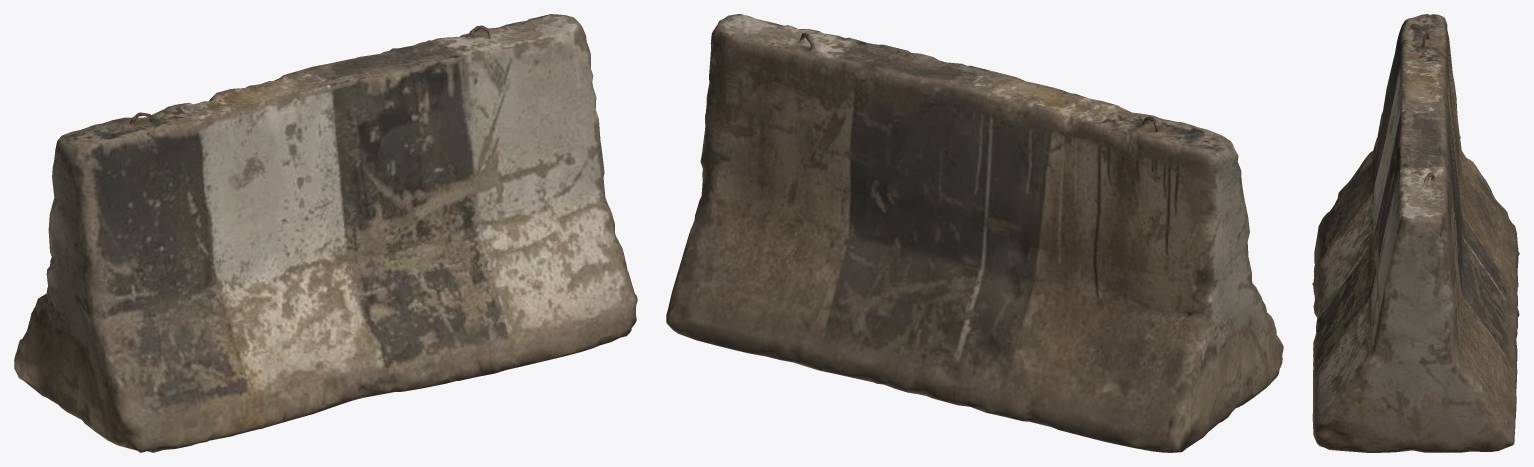
3 views of the same model, side by side, from view 1: azimuth 30°, elevation 25°; view 2: azimuth 150°, elevation 25°; view 3: azimuth 270°, elevation 25° (orthographic). The views are drawn at different scales.
Parts seen in each view (by area): view 1: concrete_road_barrier; view 2: concrete_road_barrier; view 3: concrete_road_barrier.
Part boxes in pixels (left/top/right/bottom): concrete_road_barrier: left=14, top=14, right=637, bottom=452; concrete_road_barrier: left=666, top=14, right=1283, bottom=452; concrete_road_barrier: left=1312, top=14, right=1519, bottom=452.
Size of the model in its own units: 1.54 by 0.8306 by 0.6388.
Materials: 1 (1 with a texture image).
